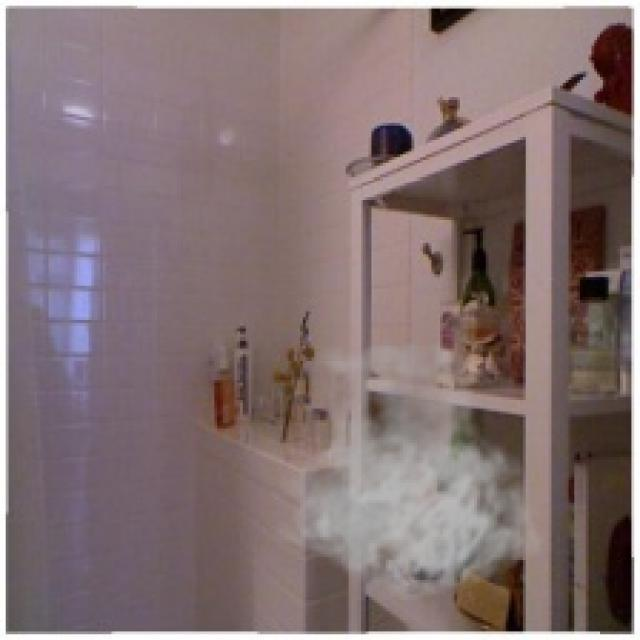Smoke: (268, 320, 546, 603)
